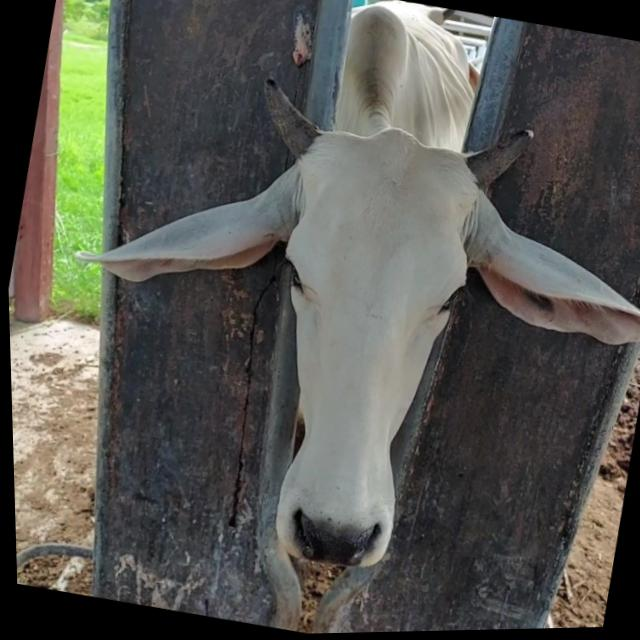cowFace: (224, 112, 496, 580)
